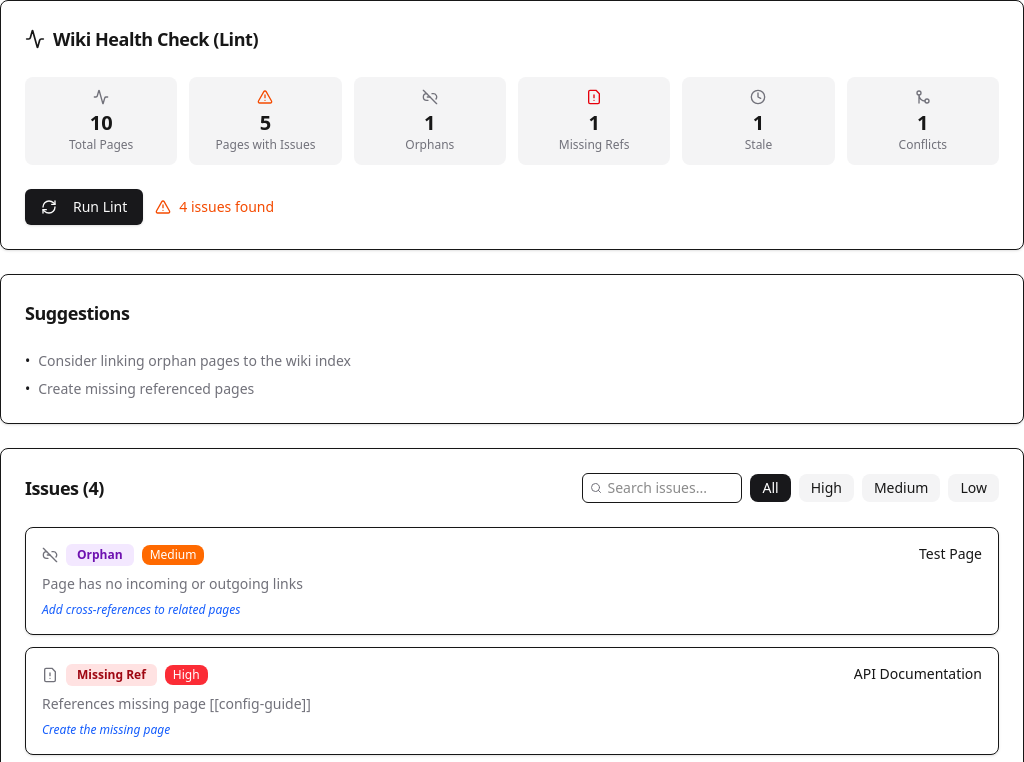
WikiLint Search and Filter › filters issues by search query on details
expect the text "Test Page" is shown: met, box [919, 544, 982, 564]
Type "missing page" into the field with placeholder "Search issues..." at (662, 488), box [582, 473, 742, 503]
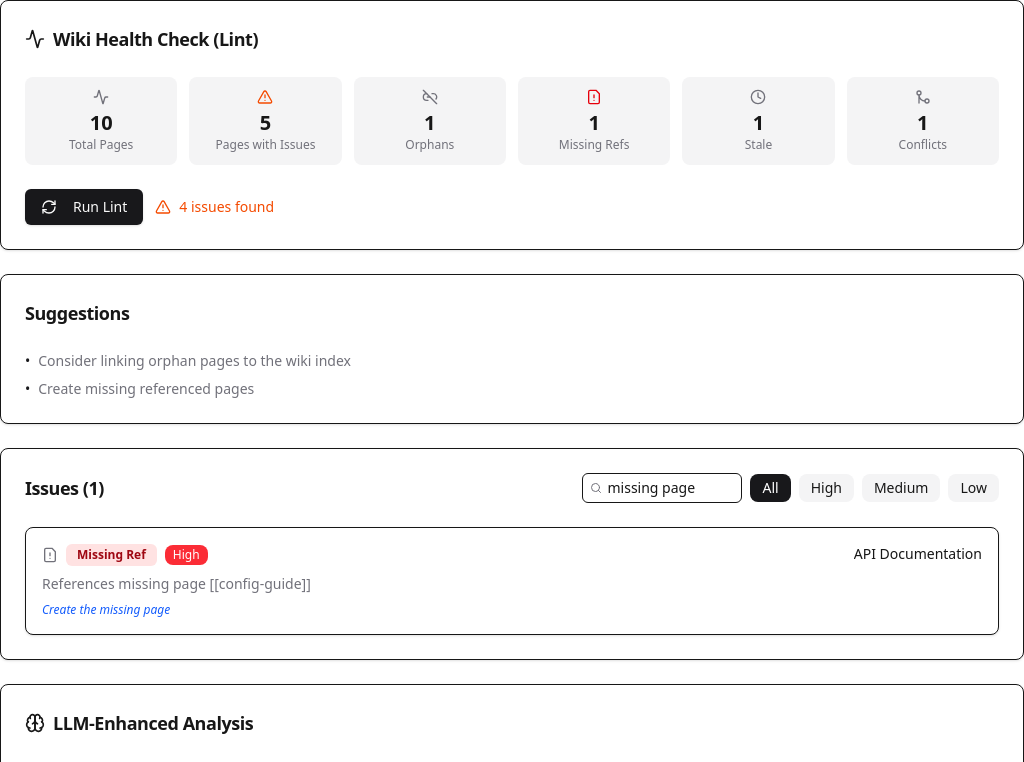
expect the text "API Documentation" is shown: met, box [854, 544, 982, 564]
expect the text "Test Page" is gone: met
